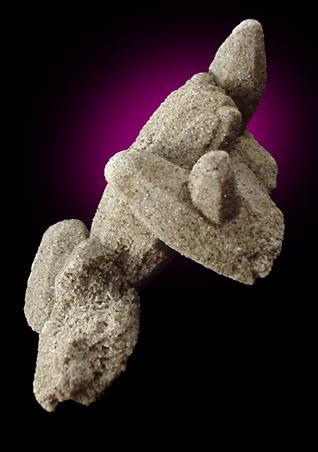calcite: (25, 19, 284, 412)
